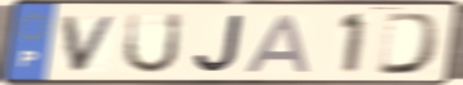1: (337, 11, 368, 75)
A: (242, 12, 314, 75)
D: (374, 11, 444, 77)
J: (191, 13, 246, 75)
U: (119, 11, 186, 77)
V: (60, 13, 123, 74)
